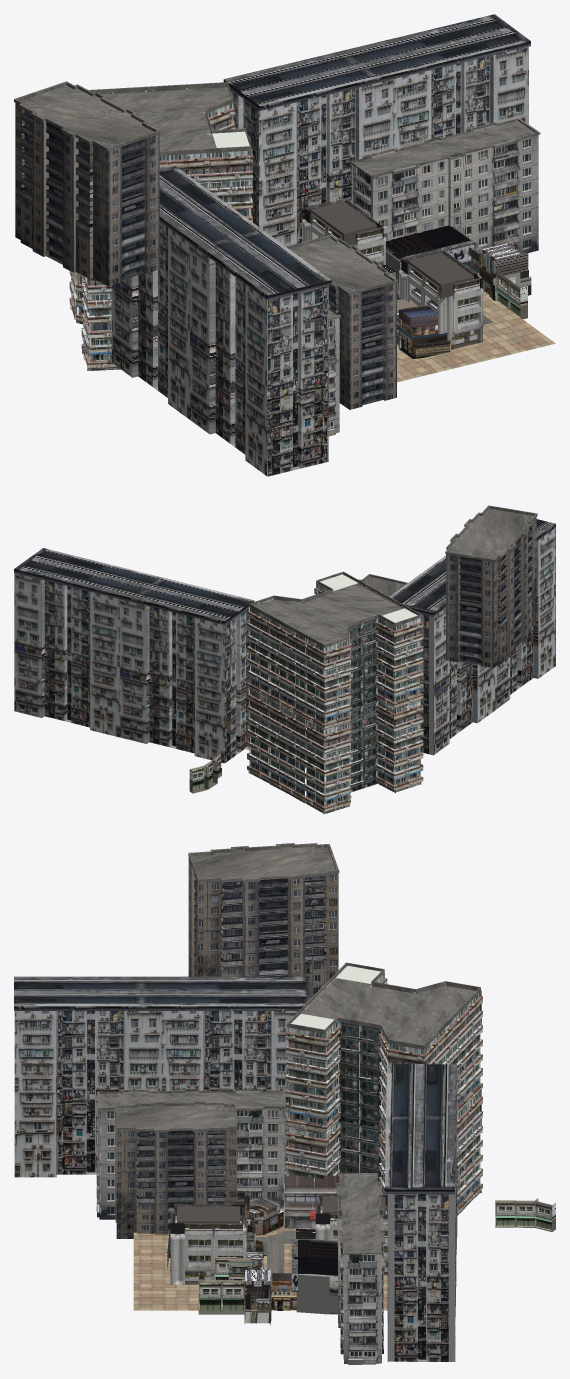
File: stage.glb
The picture shows the model from 3 angles, top to bottom: view 1: azimuth 30°, elevation 25°; view 2: azimuth 150°, elevation 25°; view 3: azimuth 270°, elevation 25°; orthographic projection. The views are drawn at different scales.
Visible parts, largest first — view 1: Cube.006, Cube.016, Cube.013, Cube.003, Cube.005, Cube.011, Cube.014, Plane.006, Cube.015, object 24, object 19, object 23 (+2 smaller); view 2: Cube.016, Cube.005, Cube.006, Cube.013, Cube.011, object 32; view 3: Cube.006, Cube.005, Cube.016, Cube.013, Cube.011, Cube.012, Cube.003, Cube.014, Plane.006, object 24, object 21, object 23 (+6 smaller).
Boxes of the visible parts, x1,y1,x2,y2 form: Cube.006: [111, 166, 331, 476]; Cube.016: [223, 14, 530, 246]; Cube.013: [14, 81, 160, 286]; Cube.003: [350, 118, 540, 253]; Cube.005: [69, 82, 253, 370]; Cube.011: [286, 235, 397, 409]; Cube.014: [399, 250, 482, 349]; Plane.006: [397, 291, 555, 382]; Cube.015: [302, 199, 385, 264]; object 24: [386, 225, 475, 294]; object 19: [397, 305, 450, 358]; object 23: [479, 242, 531, 300]; Cube.016: [14, 548, 254, 763]; Cube.005: [247, 571, 423, 814]; Cube.006: [389, 519, 555, 755]; Cube.013: [445, 505, 537, 668]; Cube.011: [359, 574, 407, 633]; object 32: [189, 765, 207, 793]; Cube.006: [14, 976, 310, 1177]; Cube.005: [285, 962, 482, 1215]; Cube.016: [384, 1064, 457, 1361]; Cube.013: [188, 843, 339, 998]; Cube.011: [115, 1101, 237, 1238]; Cube.012: [96, 1089, 286, 1219]; Cube.003: [336, 1173, 384, 1364]; Cube.014: [170, 1204, 246, 1285]; Plane.006: [133, 1231, 273, 1310]; object 24: [291, 1239, 337, 1314]; object 21: [284, 1175, 339, 1229]; object 23: [244, 1270, 271, 1325].
Bounding box in the file's own units: 70.5 × 36.81 × 63.41.
Materials: 26 (25 with a texture image).
